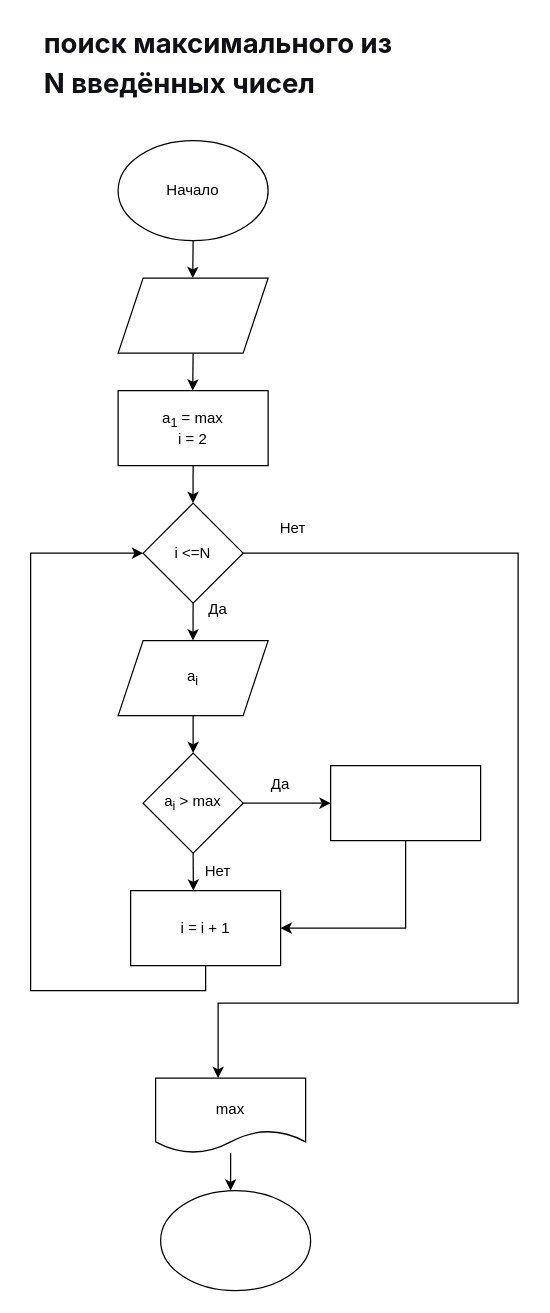
This 550x1313 diagram has some shape labels left out. The box of each missing label's shape, as (x1, y1, x2, y2) in pixels:
a i = max: (329, 764, 481, 841)
N, a 1: (117, 277, 268, 353)
Конец: (159, 1189, 311, 1291)
